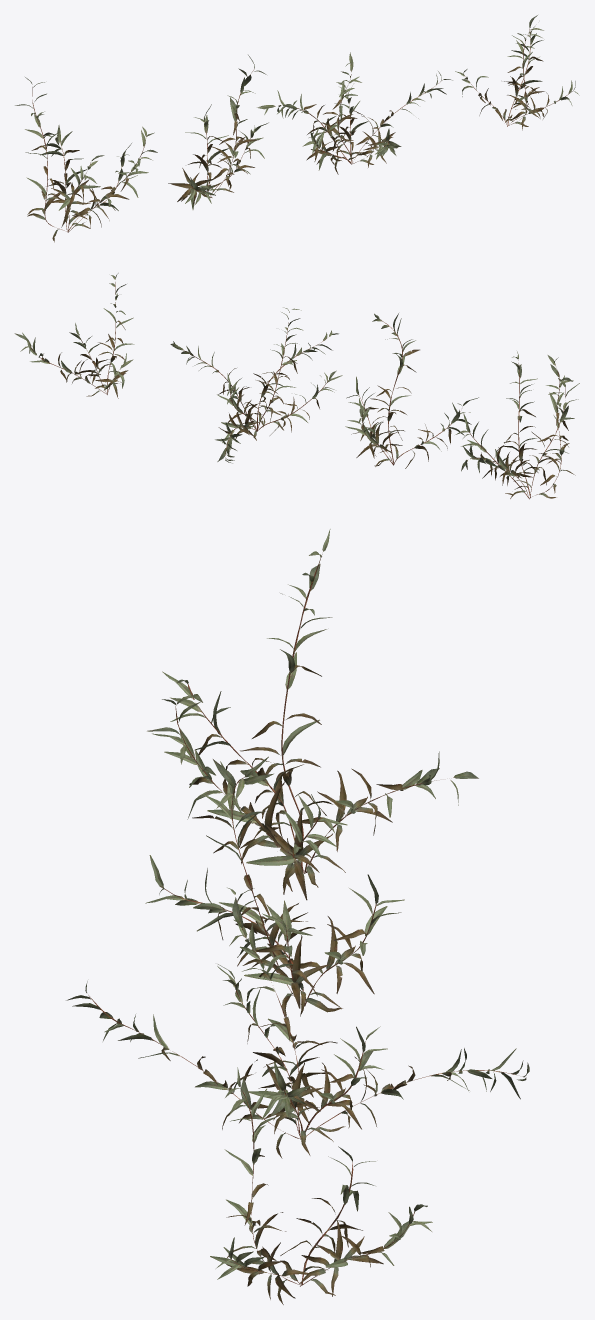
Rendered from shrub_02.glb.
The picture shows the model from 3 angles, top to bottom: view 1: azimuth 30°, elevation 25°; view 2: azimuth 150°, elevation 25°; view 3: azimuth 270°, elevation 25°; orthographic projection. The views are drawn at different scales.
Parts seen in each view (by area): view 1: shrub_02_a; view 2: shrub_02_a; view 3: shrub_02_a.
Part boxes in pixels (x1,y1,x2,y2): shrub_02_a: (15, 15, 579, 242); shrub_02_a: (14, 273, 579, 499); shrub_02_a: (66, 529, 529, 1304).
Size of the model in its own units: 6.05 by 1.7 by 2.29.
Materials: 1 (1 with a texture image).
